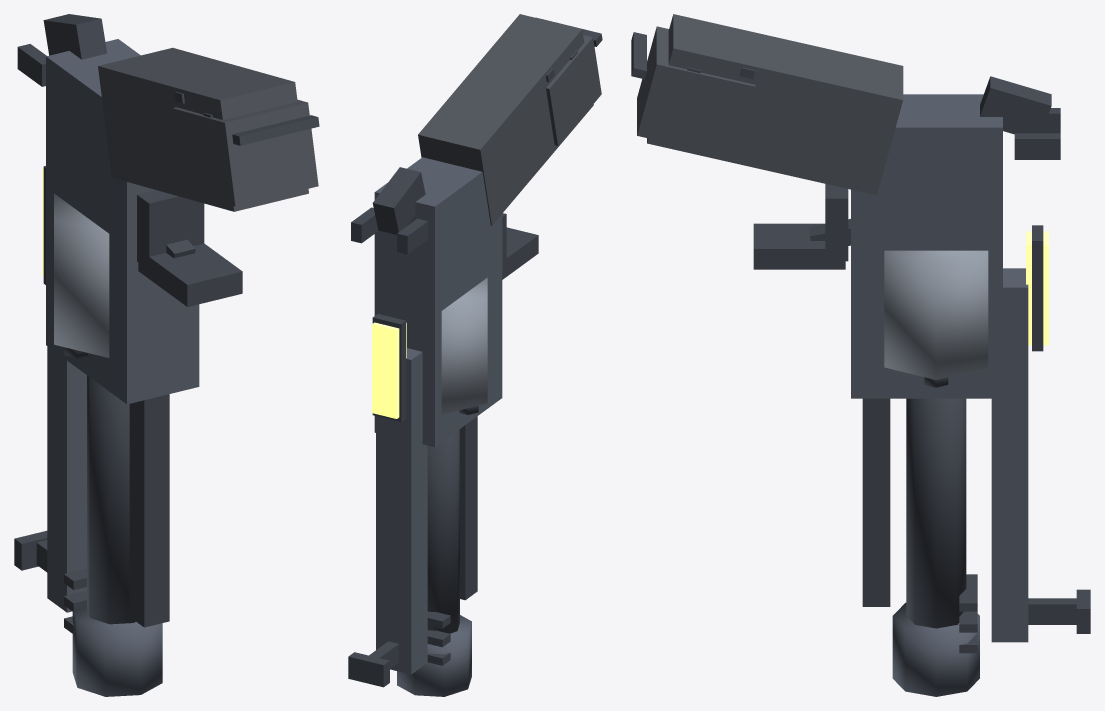
File: wpn_tactical_revolver.glb
3 renders of one model, left to right at view 1: azimuth 30°, elevation 25°; view 2: azimuth 150°, elevation 25°; view 3: azimuth 270°, elevation 25°, orthographic. The views are drawn at different scales.
Parts seen in each view (by area): view 1: wpn_tactical_revolver; view 2: wpn_tactical_revolver; view 3: wpn_tactical_revolver.
Part boxes in pixels (left/top/right/bottom): wpn_tactical_revolver: left=14, top=14, right=319, bottom=696; wpn_tactical_revolver: left=348, top=14, right=602, bottom=696; wpn_tactical_revolver: left=631, top=14, right=1090, bottom=696.
Bounding box in the file's own units: 0.06 × 0.3103 × 0.1994.
